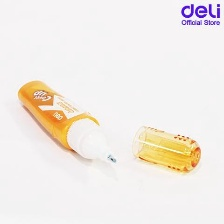correction_fluid: (15, 78, 119, 167)
